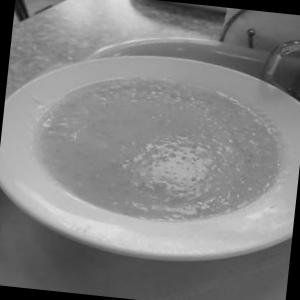porridge: (0, 46, 299, 269)
